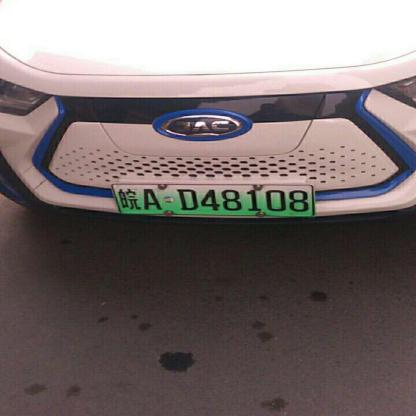lp: (112, 185, 313, 214)
